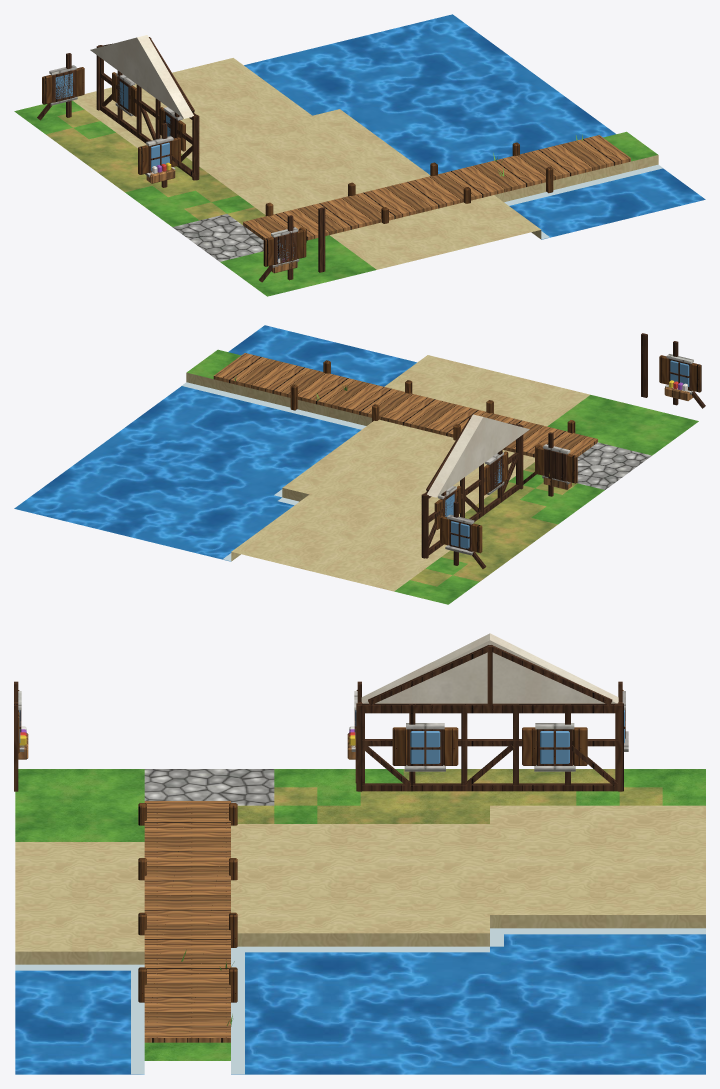
Rendered from chunk_11_5.glb.
3 renders of one model, top to bottom at view 1: azimuth 30°, elevation 25°; view 2: azimuth 150°, elevation 25°; view 3: azimuth 270°, elevation 25°, orthographic. The views are drawn at different scales.
Visible parts, largest first — view 1: chunk_11_5; view 2: chunk_11_5; view 3: chunk_11_5.
Boxes of the visible parts, x1=… form: chunk_11_5: x1=14, y1=14, x2=705, y2=296; chunk_11_5: x1=14, y1=325, x2=705, y2=604; chunk_11_5: x1=14, y1=633, x2=705, y2=1074.
Size of the model in its own units: 16.25 by 4.57 by 16.03.
17 materials, 10 textured.
